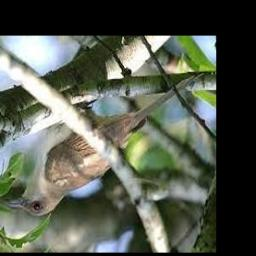Cuckoo: (6, 71, 203, 216)
